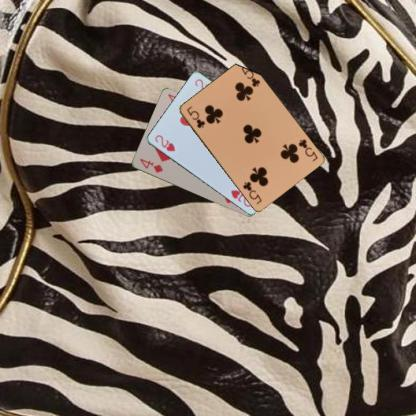2h: (152, 132, 176, 152)
4d: (137, 156, 164, 174)
5c: (295, 136, 319, 163), (184, 104, 206, 130)
